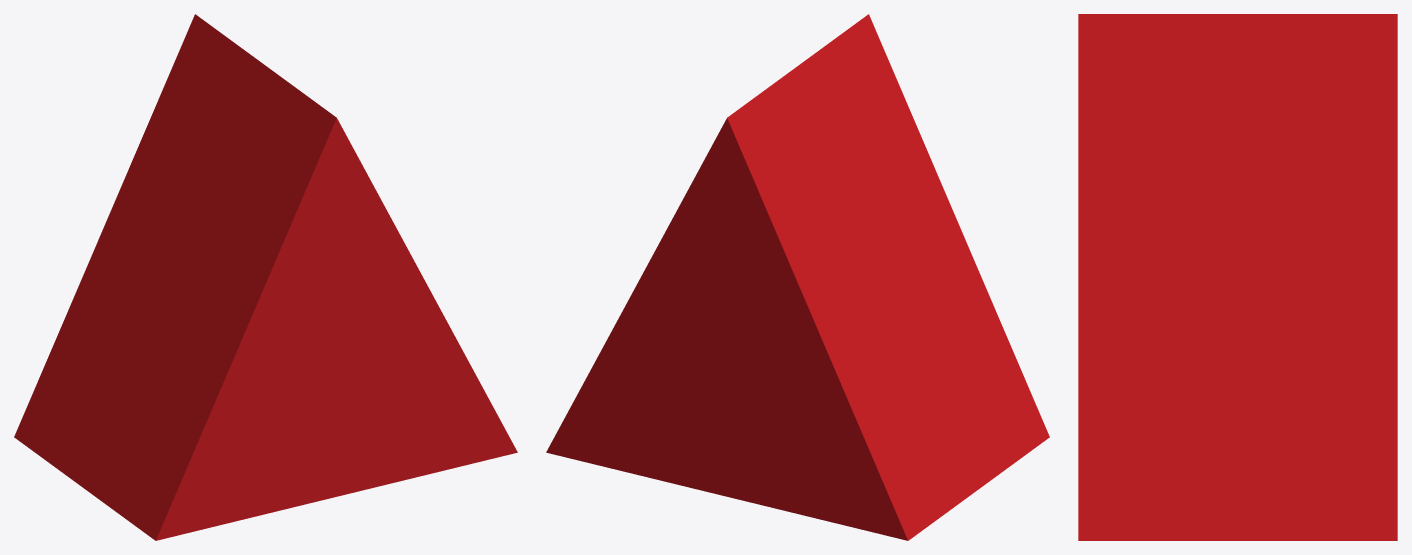
The model's file is triangulo.fbx.
The picture shows the model from 3 angles, left to right: view 1: azimuth 30°, elevation 25°; view 2: azimuth 150°, elevation 25°; view 3: azimuth 270°, elevation 25°; orthographic projection. The views are drawn at different scales.
Visible parts, largest first — view 1: Plane; view 2: Plane; view 3: Plane.
Boxes of the visible parts, bbox=[...] form: Plane: bbox=[14, 14, 517, 540]; Plane: bbox=[546, 14, 1049, 540]; Plane: bbox=[1078, 14, 1397, 540].
Size of the model in its own units: 5.17 by 5.17 by 3.5.
